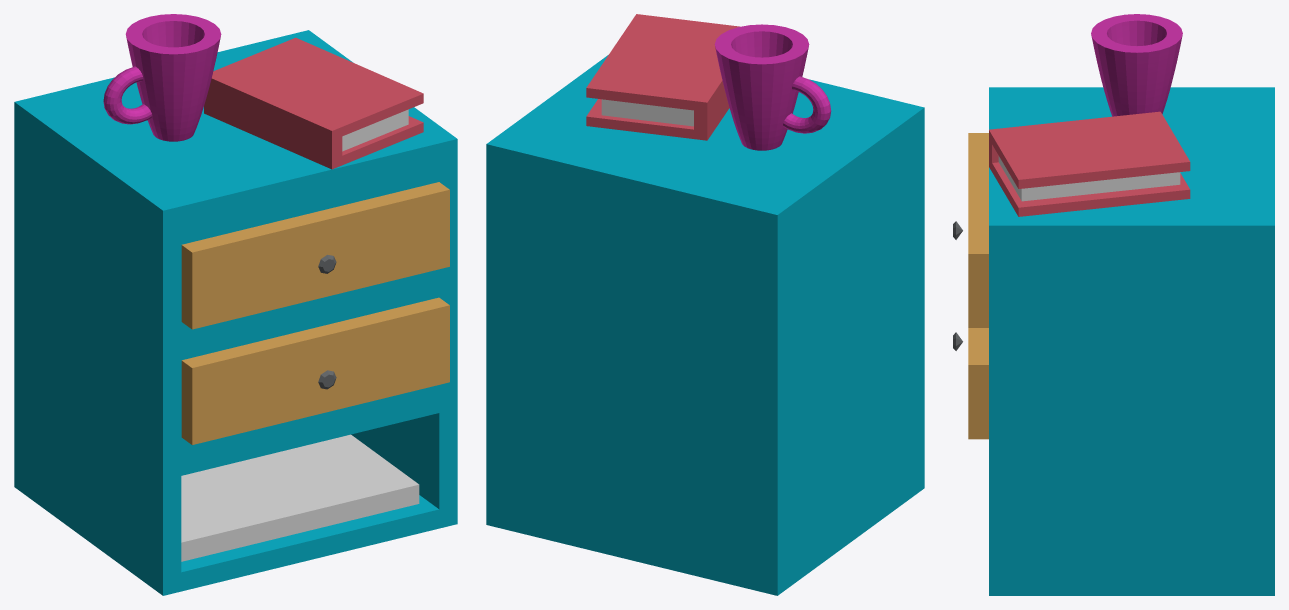
The model's file is Table.glb.
3 views of the same model, side by side, from view 1: azimuth 30°, elevation 25°; view 2: azimuth 150°, elevation 25°; view 3: azimuth 270°, elevation 25° (orthographic). The views are drawn at different scales.
Parts seen in each view (by area): view 1: Mesh_Mesh_head_geo.001_lambert2SG.001; view 2: Mesh_Mesh_head_geo.001_lambert2SG.001; view 3: Mesh_Mesh_head_geo.001_lambert2SG.001.
Boxes of the visible parts, bbox=[...] form: Mesh_Mesh_head_geo.001_lambert2SG.001: bbox=[14, 14, 457, 595]; Mesh_Mesh_head_geo.001_lambert2SG.001: bbox=[486, 14, 924, 595]; Mesh_Mesh_head_geo.001_lambert2SG.001: bbox=[953, 14, 1274, 595].
Size of the model in its own units: 16 by 25.13 by 15.75.
